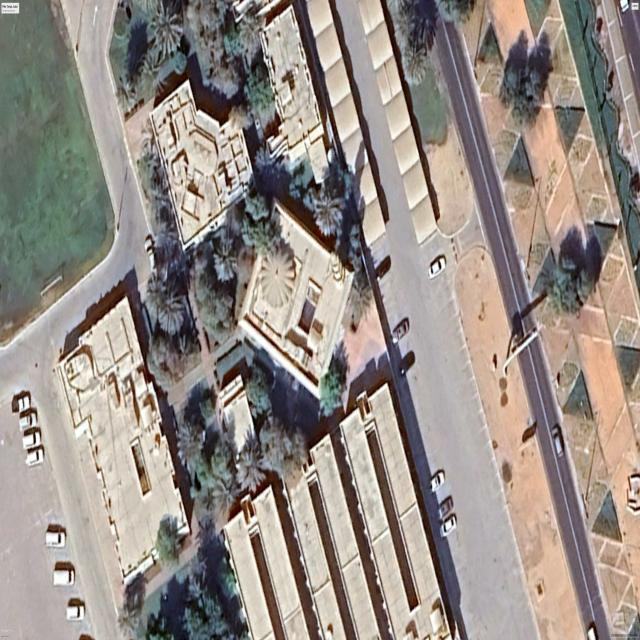mosque: (239, 199, 354, 398)
